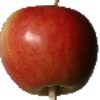apple: (1, 6, 98, 97)
